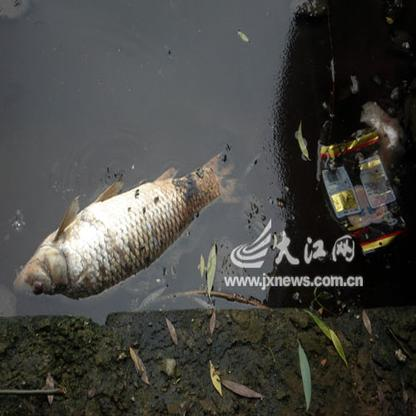deceased fish: (2, 148, 241, 299)
